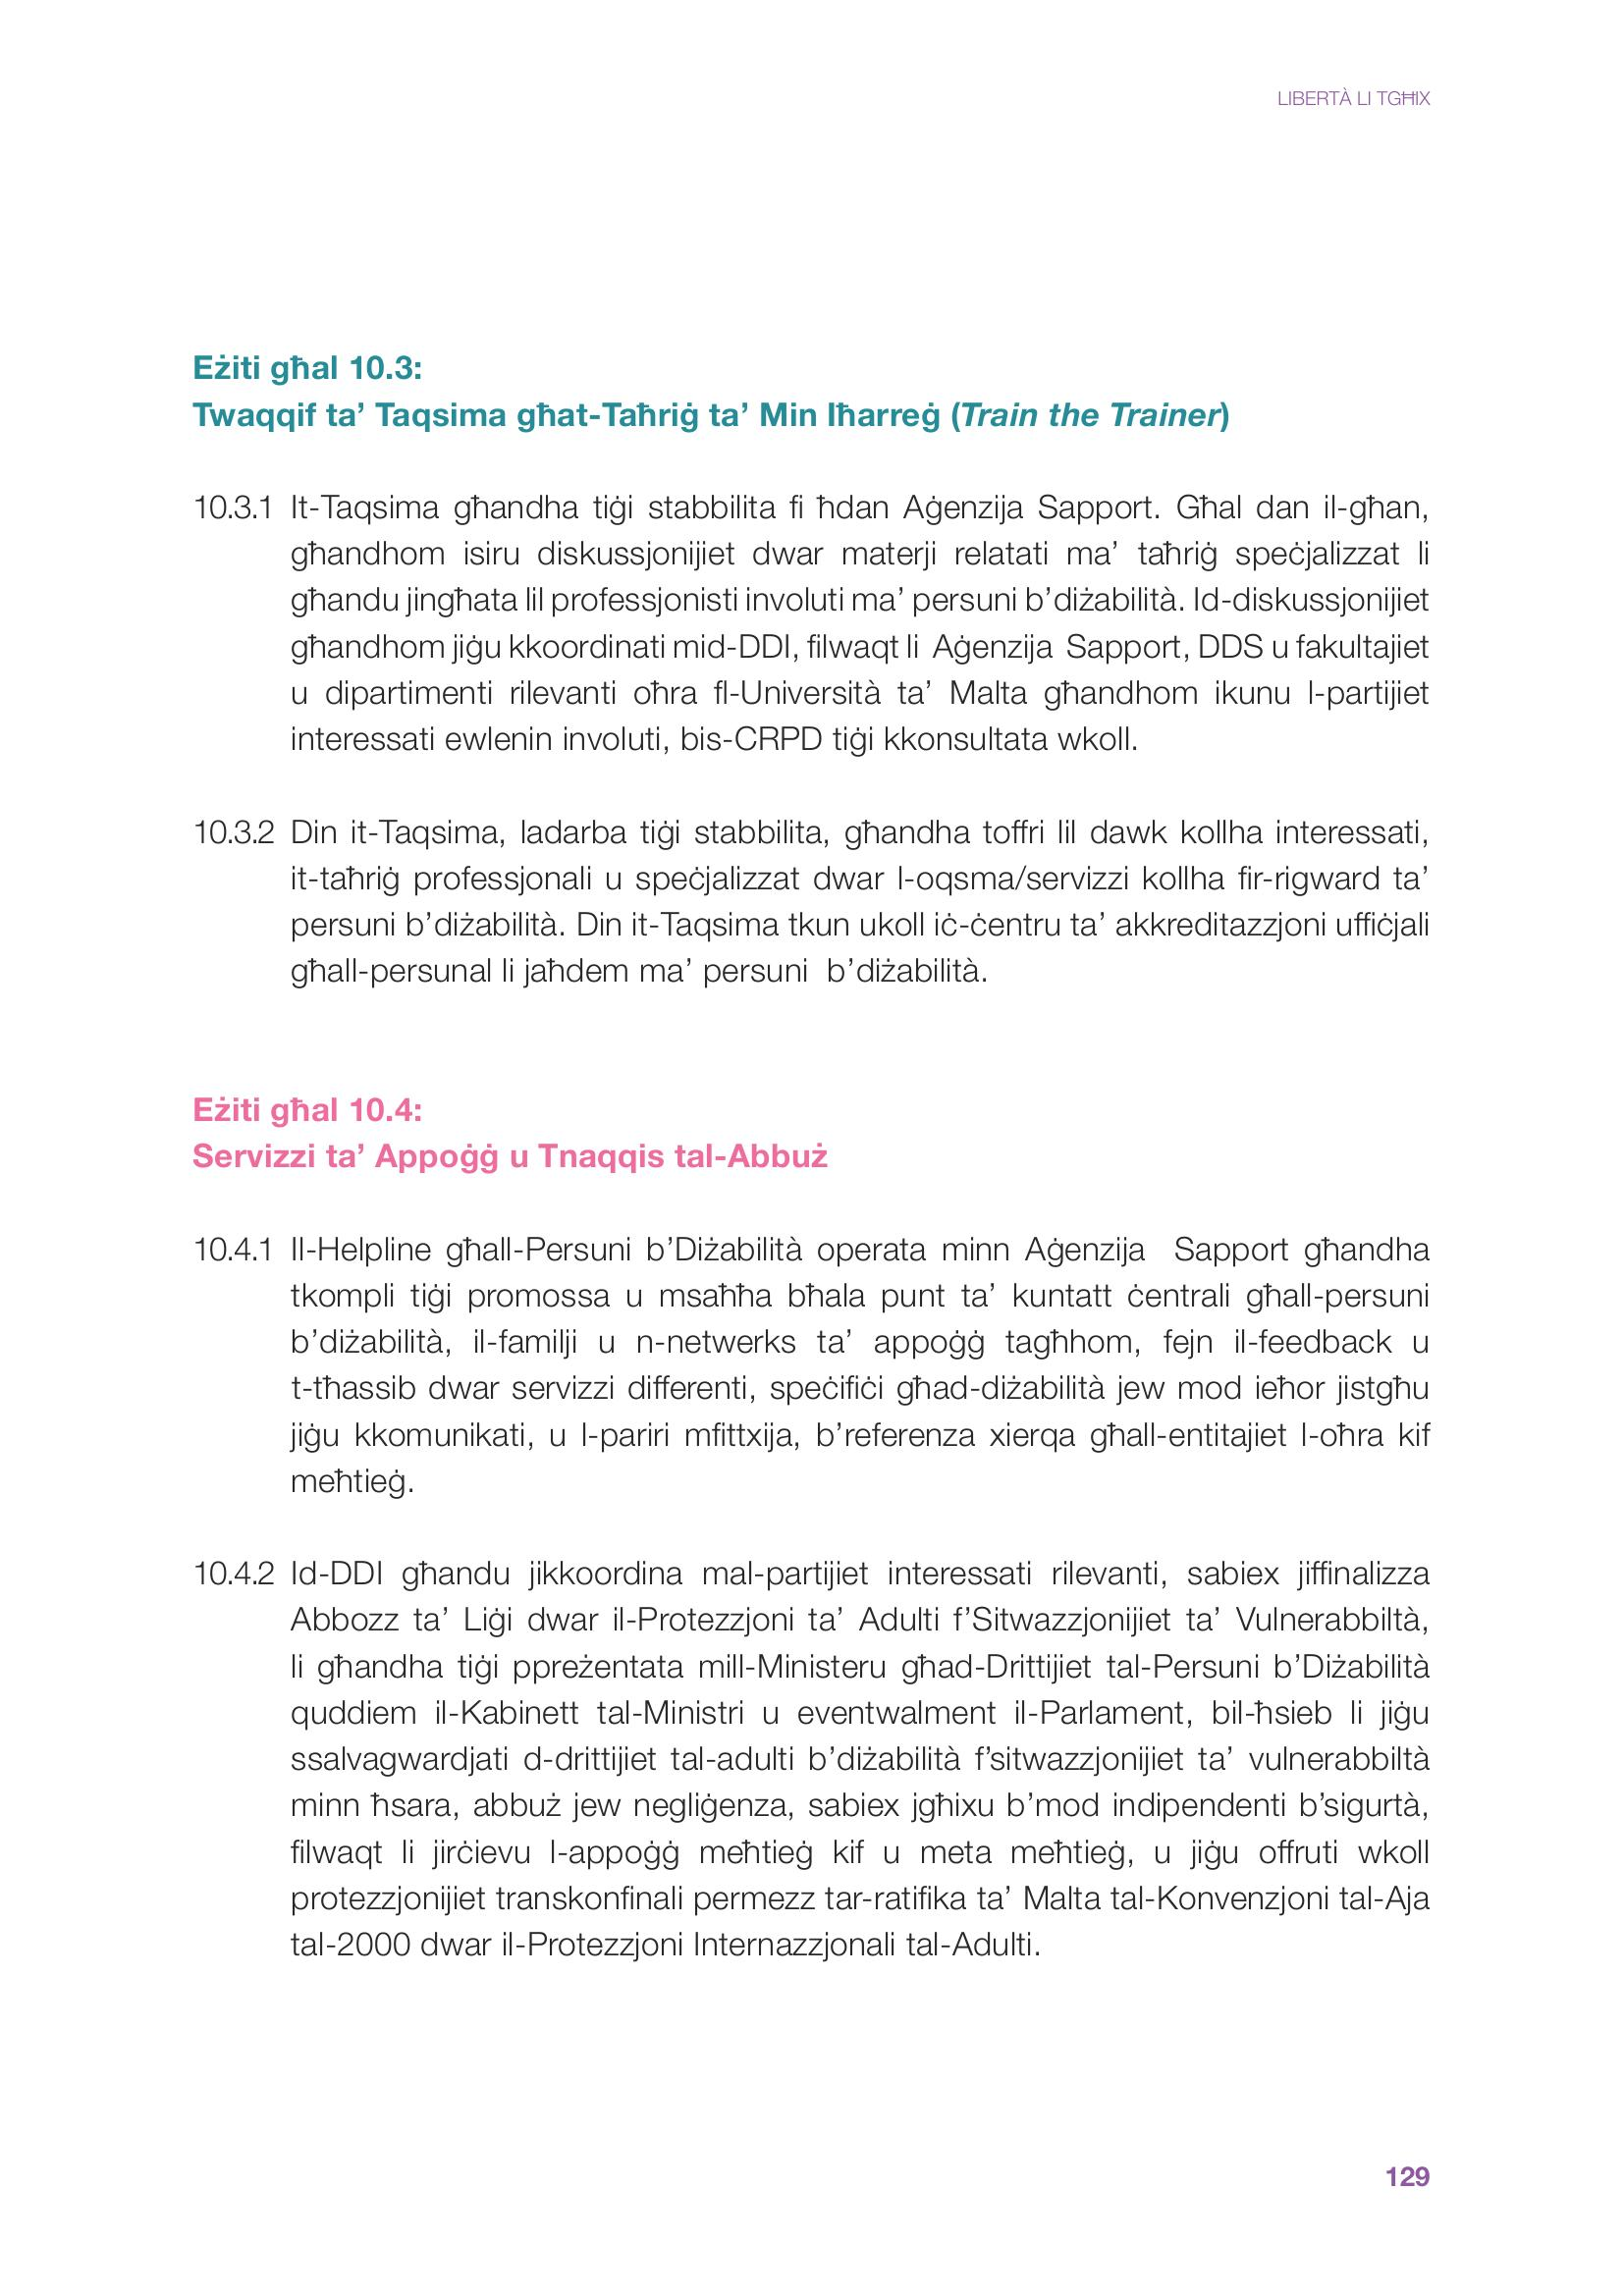text: (160, 334, 1476, 1989)
